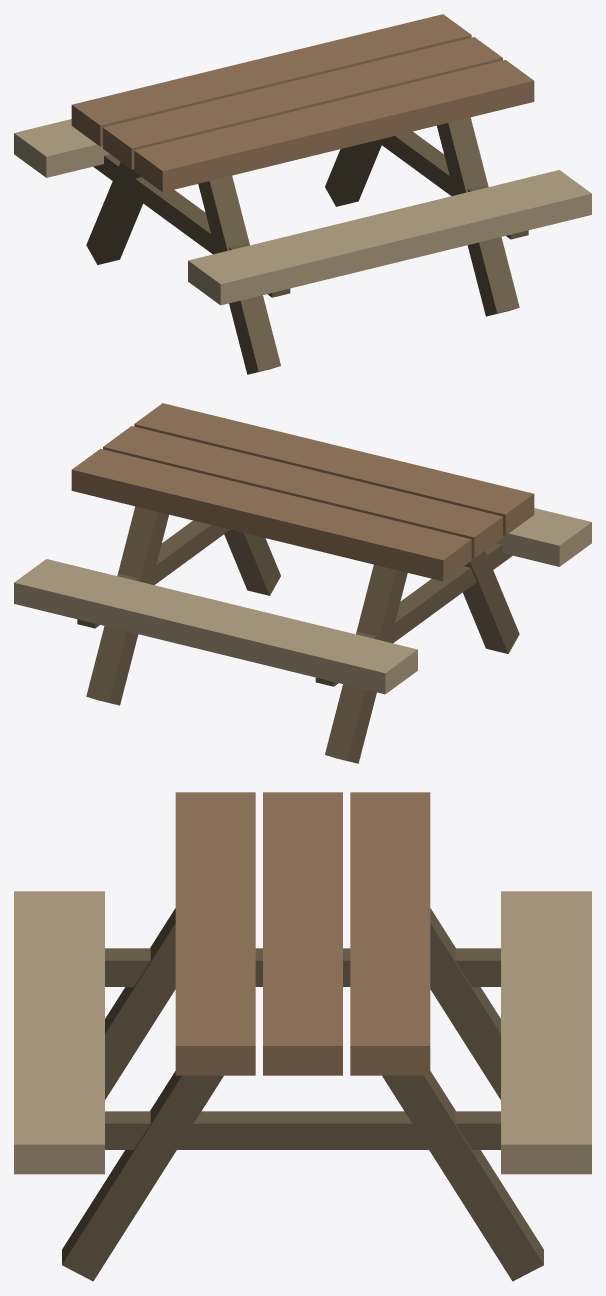
The model's file is qc_picnic_table.obj.
The picture shows the model from 3 angles, top to bottom: view 1: azimuth 30°, elevation 25°; view 2: azimuth 150°, elevation 25°; view 3: azimuth 270°, elevation 25°; orthographic projection. The views are drawn at different scales.
Visible parts, largest first — view 1: qc_picnic_table; view 2: qc_picnic_table; view 3: qc_picnic_table.
Boxes of the visible parts, <box> form: qc_picnic_table: <box>14,14,591,374</box>; qc_picnic_table: <box>14,403,591,763</box>; qc_picnic_table: <box>14,792,591,1281</box>.
Bounding box in the file's own units: 1.65 × 0.8299 × 1.59.
